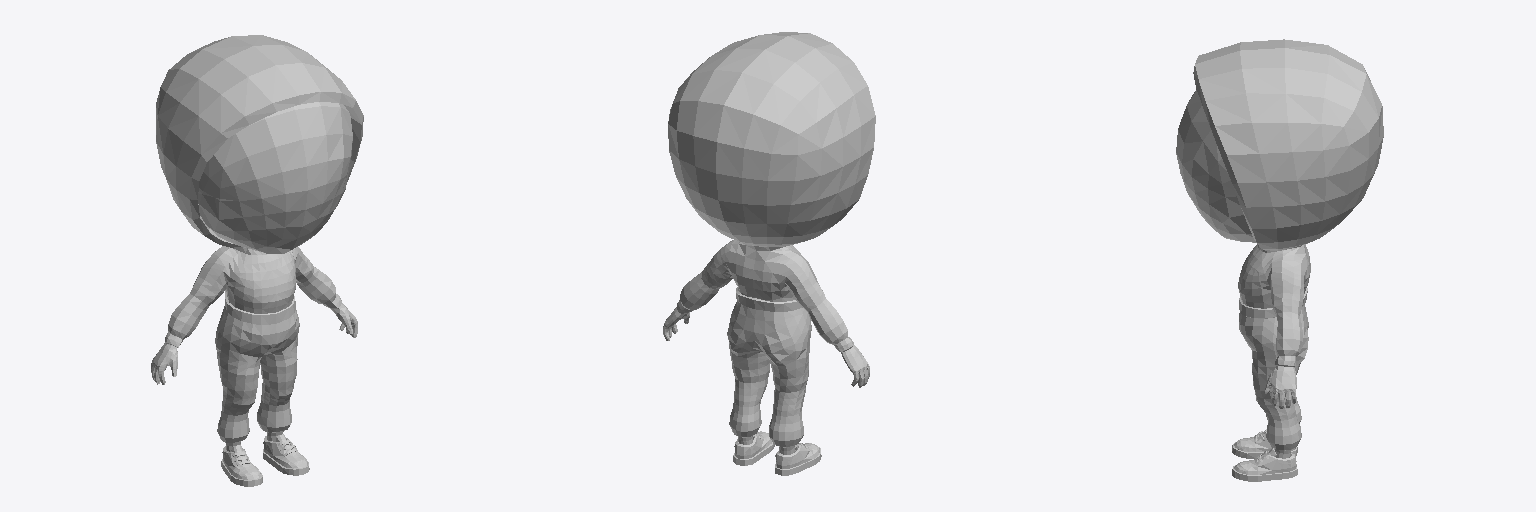
File: red_03.obj
The picture shows the model from 3 angles: view 1: azimuth 30°, elevation 25°; view 2: azimuth 150°, elevation 25°; view 3: azimuth 270°, elevation 25°; orthographic projection.
Parts seen in each view (by area): view 1: characters_03_Mesh.031; view 2: characters_03_Mesh.031; view 3: characters_03_Mesh.031.
Part boxes in pixels (x1,y1,x2,y2): characters_03_Mesh.031: (151, 35, 363, 486); characters_03_Mesh.031: (663, 32, 875, 475); characters_03_Mesh.031: (1176, 39, 1383, 481).
Bounding box in the file's own units: 0.402 × 0.7951 × 0.36.